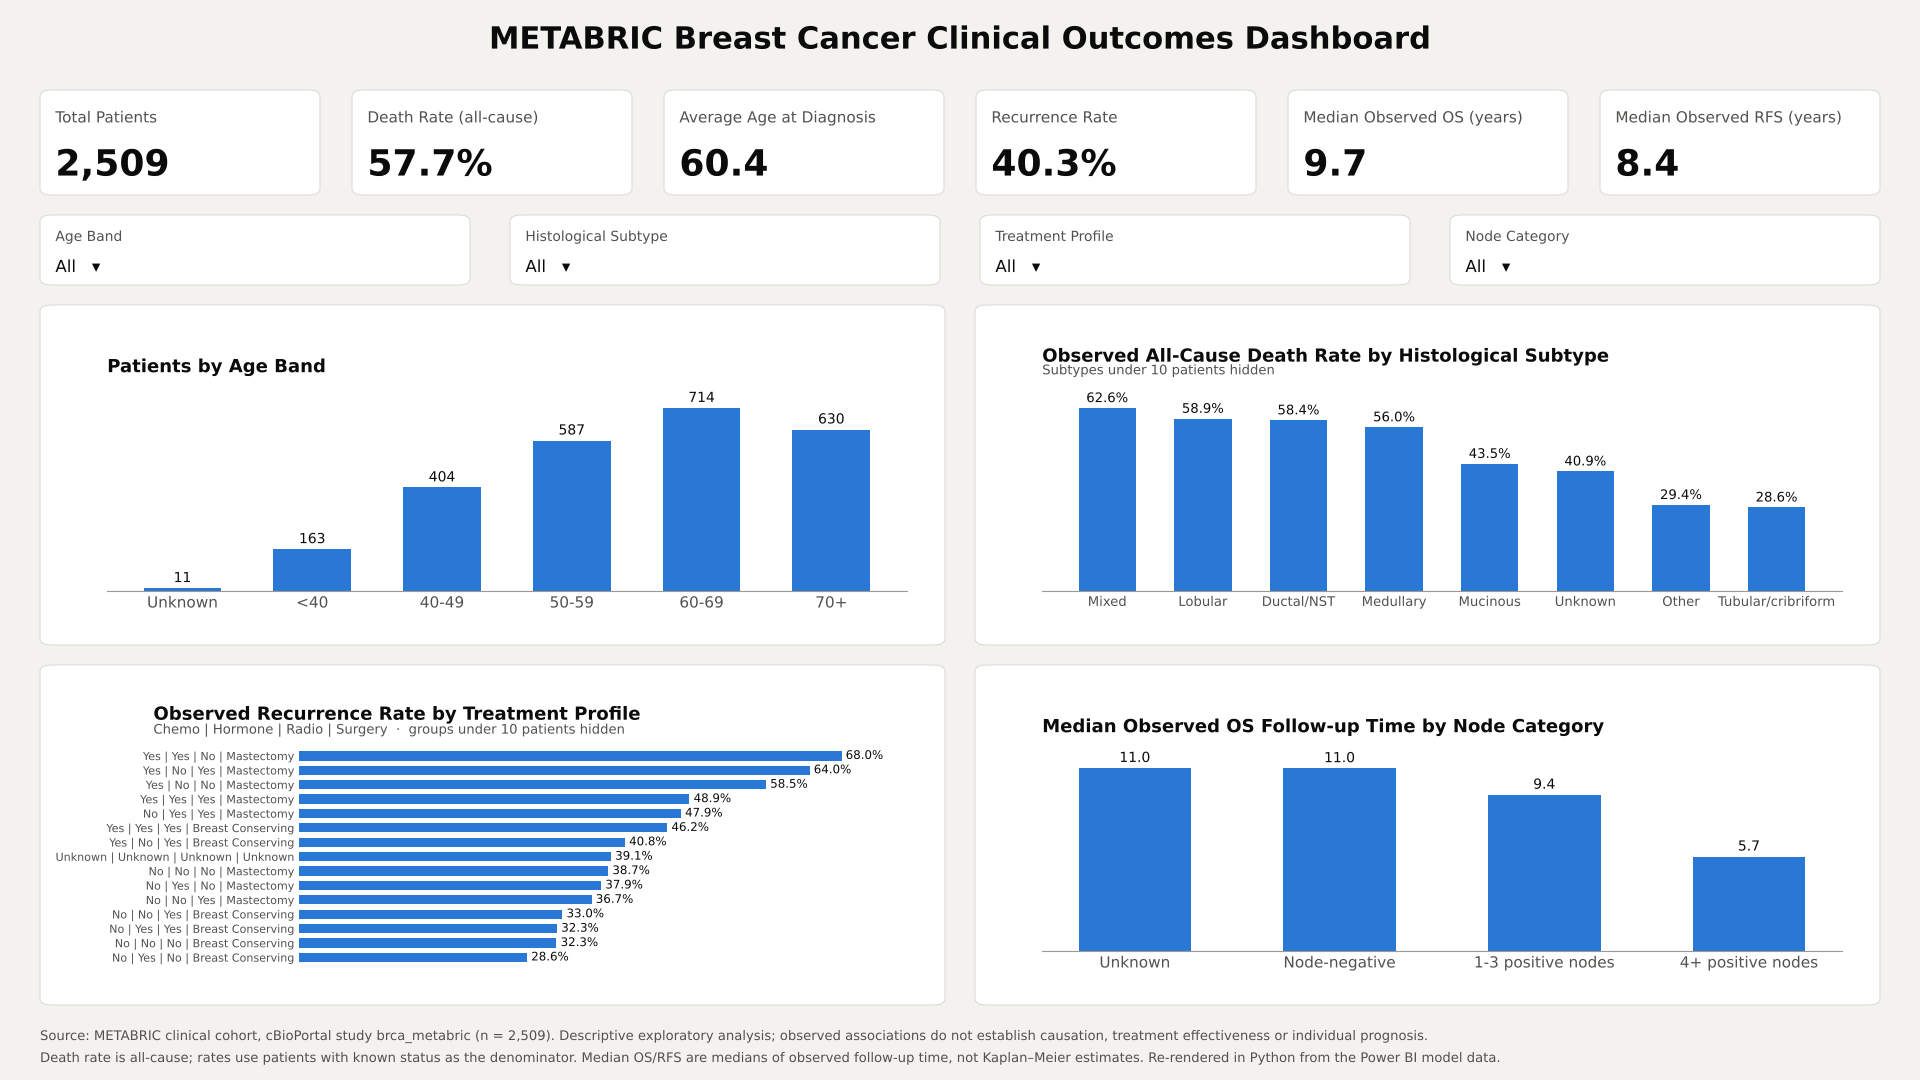

This screenshot's page, from the dashboard's own definition file:
{"tool":"powerbi","page":{"name":"Executive Summary","canvas":[1920,1080],"ordinal":0},"visuals":[{"type":"cardVisual","fields":{"Data":["Fact_Clinical_Outcomes.Total Patients"]},"box":[40,90,280,105],"z":0},{"type":"cardVisual","fields":{"Data":["Fact_Clinical_Outcomes.Death Rate"]},"box":[352,90,280,105],"z":1000},{"type":"cardVisual","fields":{"Data":["Fact_Clinical_Outcomes.Average Age at Diagnosis"]},"box":[664,90,280,105],"z":2000},{"type":"cardVisual","fields":{"Data":["Fact_Clinical_Outcomes.Recurrence Rate"]},"box":[976,90,280,105],"z":3000},{"type":"cardVisual","fields":{"Data":["Fact_Clinical_Outcomes.Median OS Years"]},"box":[1288,90,280,105],"z":4000},{"type":"cardVisual","fields":{"Data":["Fact_Clinical_Outcomes.Median RFS Years"]},"box":[1600,90,280,105],"z":5000},{"type":"textbox","box":[40,15,1840,60],"z":5001},{"type":"slicer","fields":{"Values":["Dim_Age_Band.AGE_BAND_KEY"]},"box":[40,215,430,70],"z":5002},{"type":"slicer","fields":{"Values":["Dim_Histology.HISTOLOGICAL_SUBTYPE"]},"box":[510,215,430,70],"z":5003},{"type":"slicer","fields":{"Values":["Dim_Treatment_Profile.TREATMENT_PROFILE_KEY"]},"box":[980,215,430,70],"z":5004},{"type":"slicer","fields":{"Values":["Dim_Node_Category.NODE_CATEGORY_KEY"]},"box":[1450,215,430,70],"z":5005},{"type":"clusteredColumnChart","title":"Patients by Age Band","fields":{"Category":["Dim_Age_Band.AGE_BAND_KEY"],"Y":["Fact_Clinical_Outcomes.Total Patients"]},"box":[40,305,905,340],"z":5006},{"type":"clusteredColumnChart","title":"Observed All-Cause Death Rate by Histological Subtype","fields":{"Category":["Dim_Histology.HISTOLOGICAL_SUBTYPE"],"Y":["Fact_Clinical_Outcomes.Death Rate"]},"box":[975,305,905,340],"z":5007},{"type":"clusteredColumnChart","title":"Median Observed OS Follow-up Time by Node Category","fields":{"Category":["Dim_Node_Category.NODE_CATEGORY_KEY"],"Y":["Fact_Clinical_Outcomes.Median OS Years"]},"box":[975,665,905,340],"z":5008},{"type":"clusteredBarChart","title":"Observed Recurrence Rate by Treatment Profile","fields":{"Category":["Dim_Treatment_Profile.TREATMENT_PROFILE_KEY"],"Y":["Fact_Clinical_Outcomes.Recurrence Rate"]},"box":[40,665,905,340],"z":5009},{"type":"textbox","box":[40,1020,1840,50],"z":6000}]}

Visuals, with their boxes in screenshot pixels (x1, y1, x2, y2), scaled from the page's 1920x1080 canvas onto the 1920x1080 screenshot:
cardVisual - Fact_Clinical_Outcomes.Total Patients: region(40, 90, 320, 195)
cardVisual - Fact_Clinical_Outcomes.Death Rate: region(352, 90, 632, 195)
cardVisual - Fact_Clinical_Outcomes.Average Age at Diagnosis: region(664, 90, 944, 195)
cardVisual - Fact_Clinical_Outcomes.Recurrence Rate: region(976, 90, 1256, 195)
cardVisual - Fact_Clinical_Outcomes.Median OS Years: region(1288, 90, 1568, 195)
cardVisual - Fact_Clinical_Outcomes.Median RFS Years: region(1600, 90, 1880, 195)
textbox: region(40, 15, 1880, 75)
slicer - Dim_Age_Band.AGE_BAND_KEY: region(40, 215, 470, 285)
slicer - Dim_Histology.HISTOLOGICAL_SUBTYPE: region(510, 215, 940, 285)
slicer - Dim_Treatment_Profile.TREATMENT_PROFILE_KEY: region(980, 215, 1410, 285)
slicer - Dim_Node_Category.NODE_CATEGORY_KEY: region(1450, 215, 1880, 285)
"Patients by Age Band" clusteredColumnChart: region(40, 305, 945, 645)
"Observed All-Cause Death Rate by Histological Subtype" clusteredColumnChart: region(975, 305, 1880, 645)
"Median Observed OS Follow-up Time by Node Category" clusteredColumnChart: region(975, 665, 1880, 1005)
"Observed Recurrence Rate by Treatment Profile" clusteredBarChart: region(40, 665, 945, 1005)
textbox: region(40, 1020, 1880, 1070)
